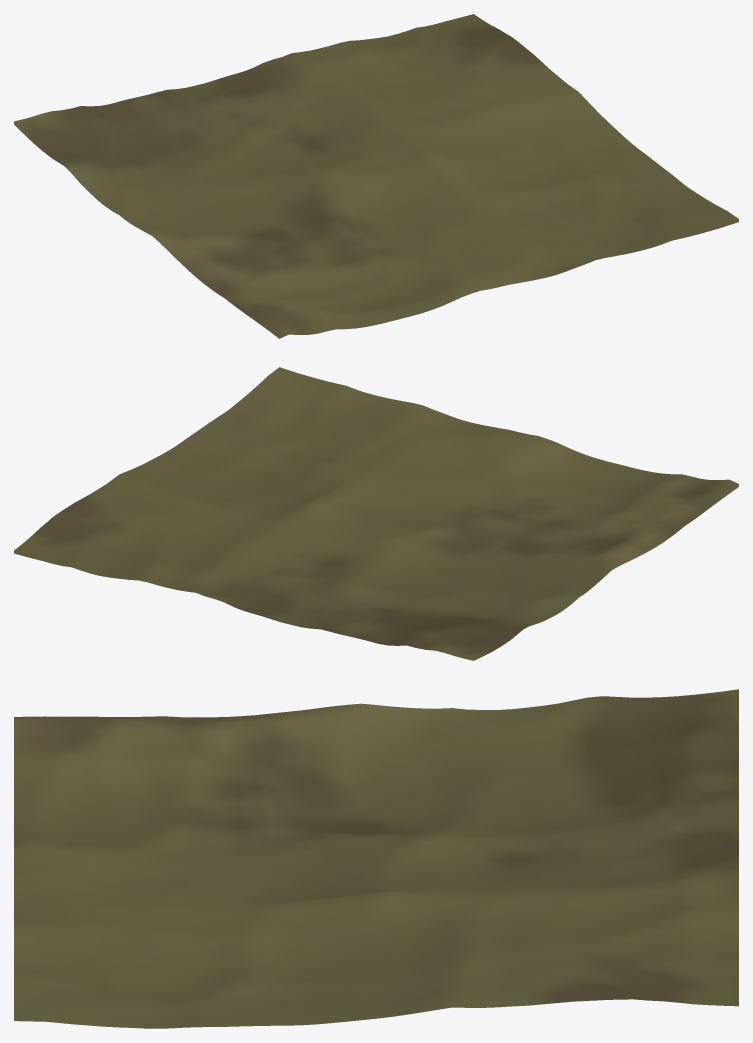
File: land_m_04_02.glb
3 renders of one model, top to bottom at view 1: azimuth 30°, elevation 25°; view 2: azimuth 150°, elevation 25°; view 3: azimuth 270°, elevation 25°, orthographic. The views are drawn at different scales.
Parts seen in each view (by area): view 1: land_m_04_02; view 2: land_m_04_02; view 3: land_m_04_02.
Part boxes in pixels (x1,y1,x2,y2): land_m_04_02: [14, 14, 738, 338]; land_m_04_02: [14, 367, 738, 660]; land_m_04_02: [14, 689, 738, 1028].
Size of the model in its own units: 960 by 67.89 by 960.
